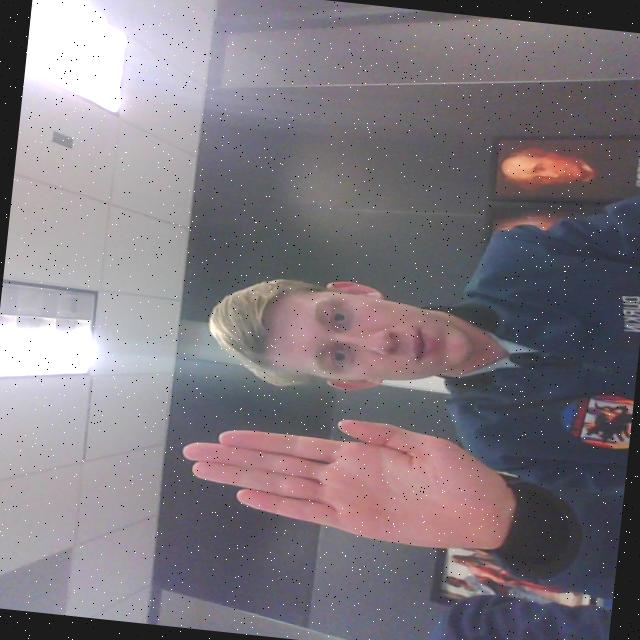paper: (164, 397, 532, 562)
